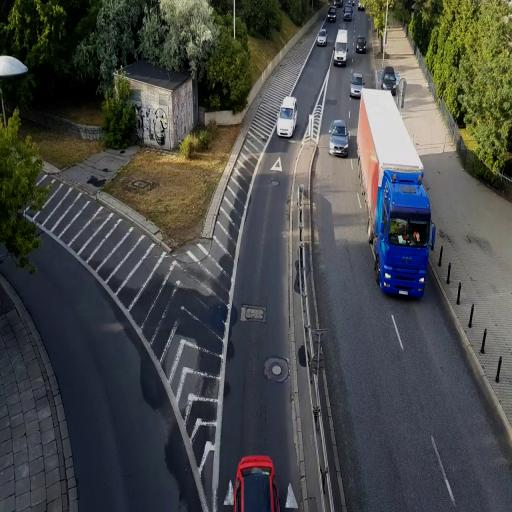vehicle: (356, 86, 434, 300), (234, 454, 280, 512), (277, 95, 298, 138), (329, 120, 349, 156), (333, 30, 349, 66), (380, 67, 399, 93), (349, 73, 364, 99), (355, 36, 368, 55), (316, 29, 328, 45)
